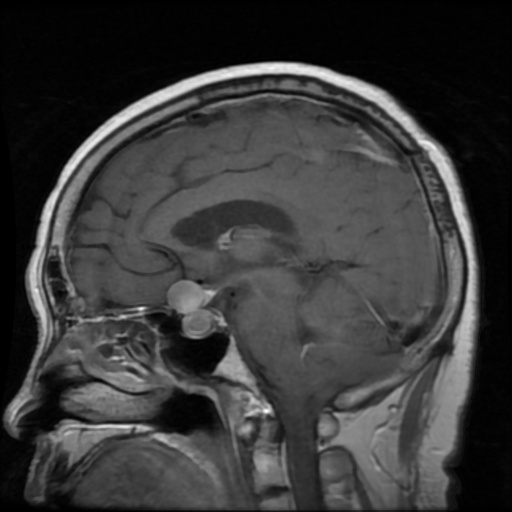pituitary: (167, 279, 214, 337)
